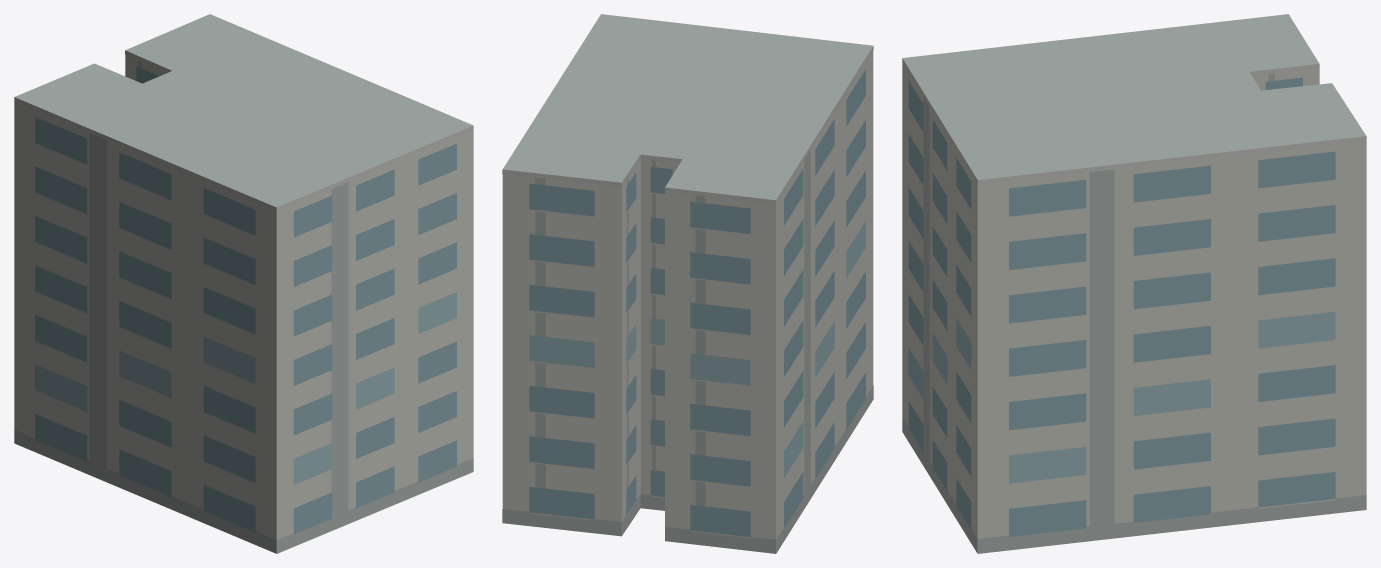
Rendered from survey-upis-32710434.glb.
3 renders of one model, left to right at view 1: azimuth 30°, elevation 25°; view 2: azimuth 150°, elevation 25°; view 3: azimuth 270°, elevation 25°, orthographic. The views are drawn at different scales.
Visible parts, largest first — view 1: survey-upis-32710434.tmp; view 2: survey-upis-32710434.tmp; view 3: survey-upis-32710434.tmp.
Boxes of the visible parts, x1,y1,x2,y2 form: survey-upis-32710434.tmp: [14, 14, 473, 553]; survey-upis-32710434.tmp: [502, 14, 873, 553]; survey-upis-32710434.tmp: [902, 14, 1366, 553].
Size of the model in its own units: 18.11 by 18.99 by 21.38.
